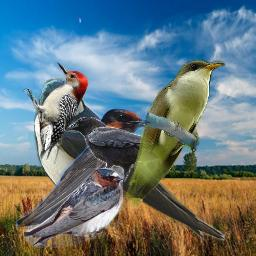Crow: (63, 117, 159, 182)
Cuckoo: (124, 59, 225, 207)
Swallow: (34, 78, 225, 241), (15, 108, 151, 227), (24, 168, 123, 248)
Woodpecker: (20, 60, 91, 164)
